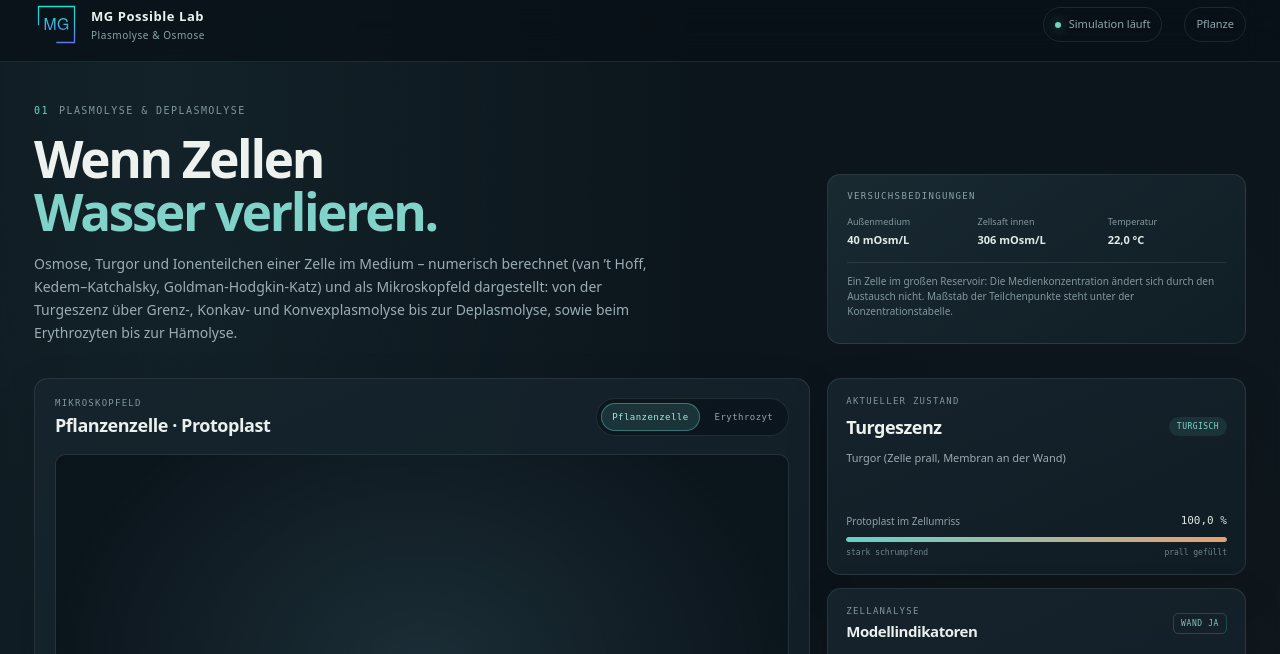
Scenario: Benutzeroberfläche (Smoke-Test im jsdom) › Zelltypwechsel zeigt die tierische Zelle und deren Voreinstellungen
The image size is (1280, 654).
Step 1. Click the radio button labelled "Erythrozyt" → (744, 417), box [704, 403, 784, 431]
(page scrolled)
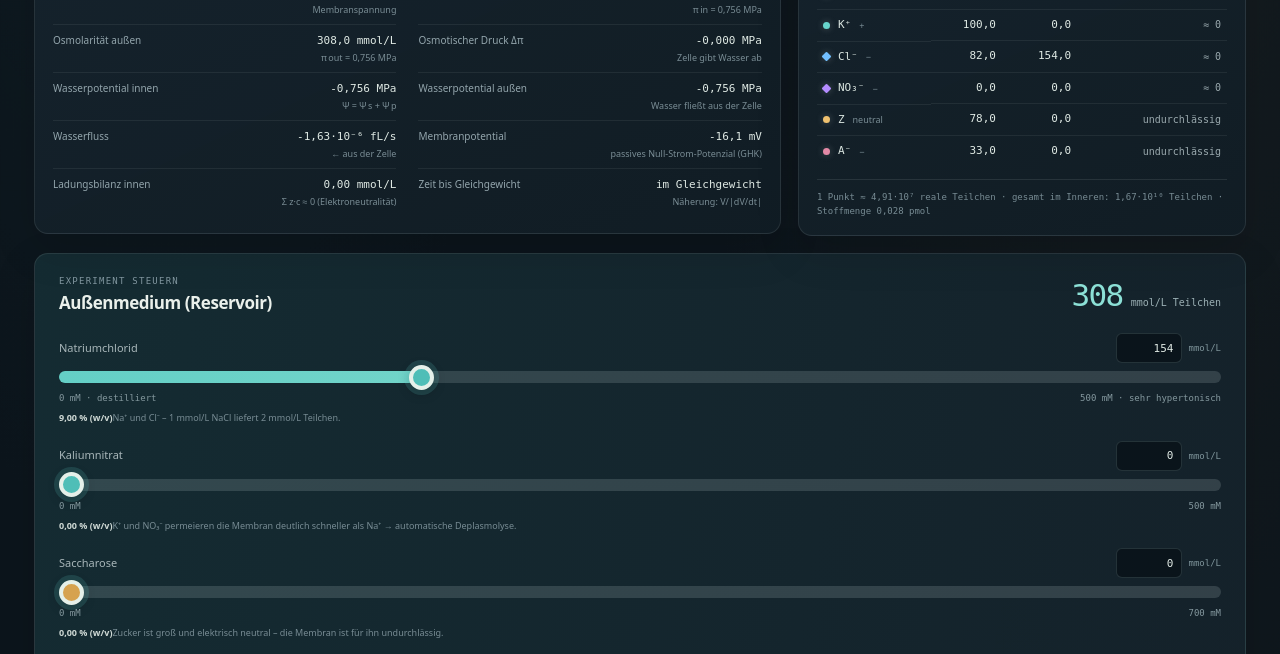
Result: the field with id "medium-nacl-number" holds "154" at [1116, 334, 1182, 364]
